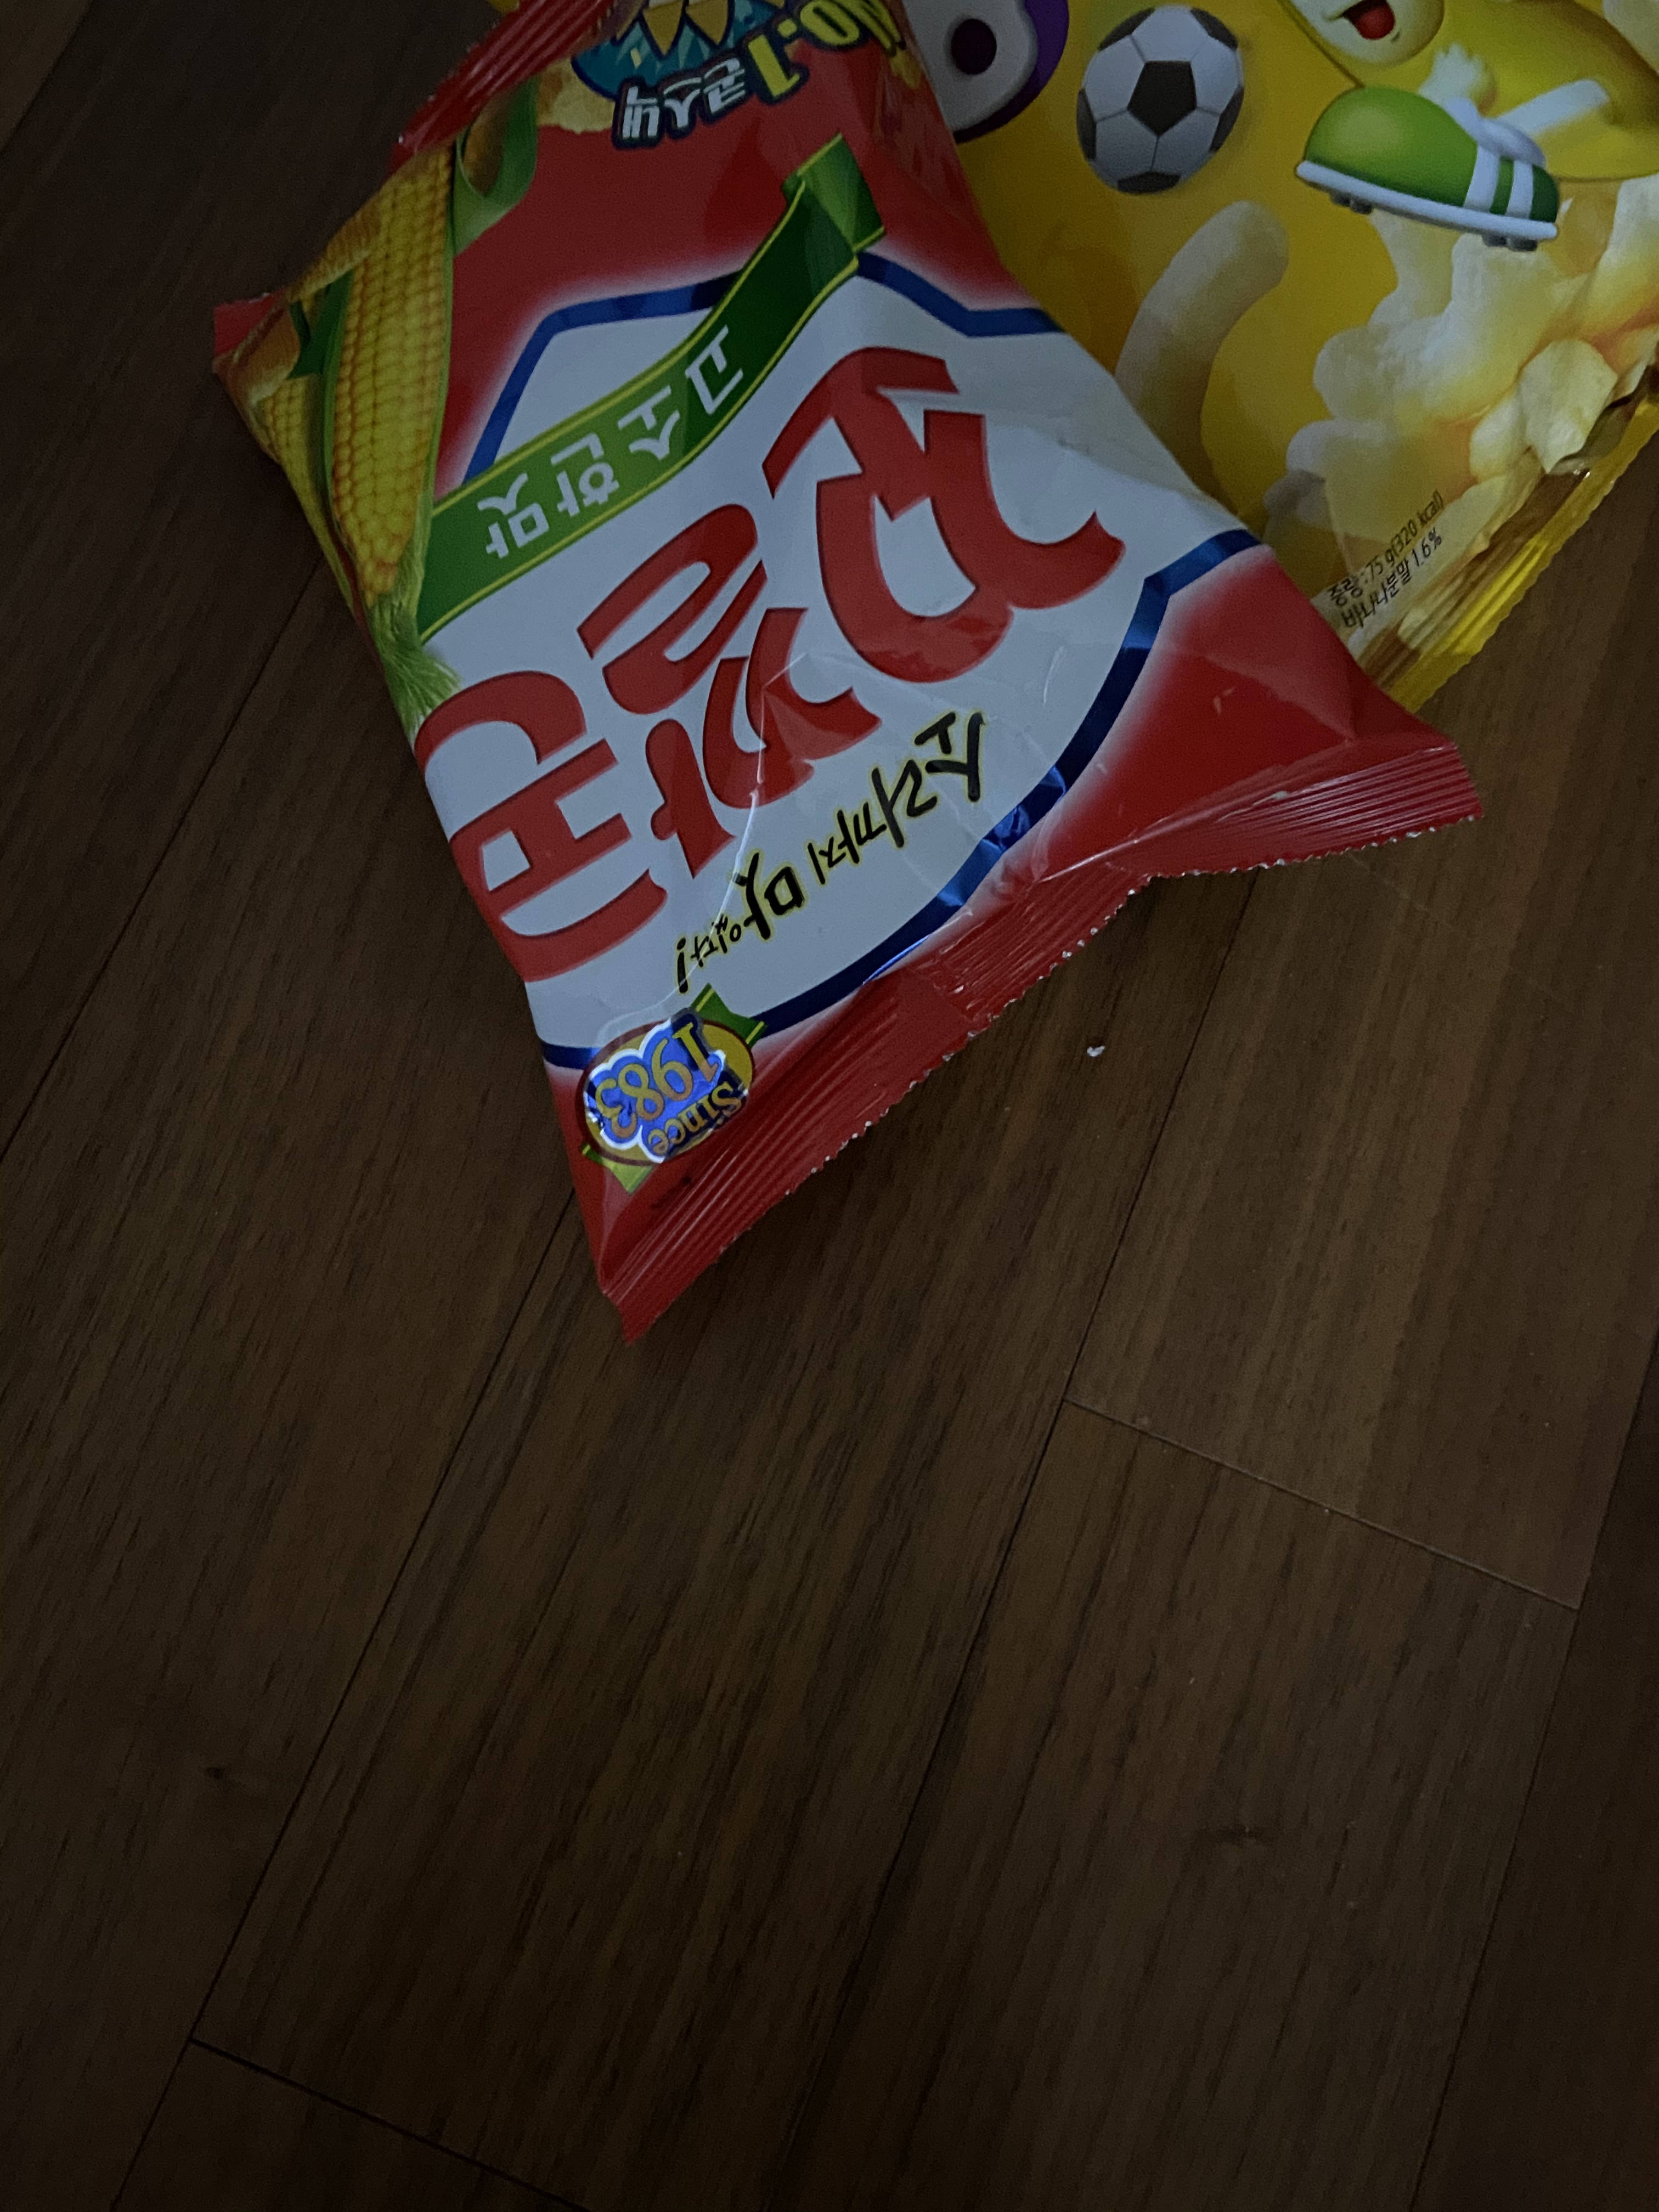banana: (751, 0, 1652, 758)
ggoggalcon: (131, 0, 1502, 1379)
